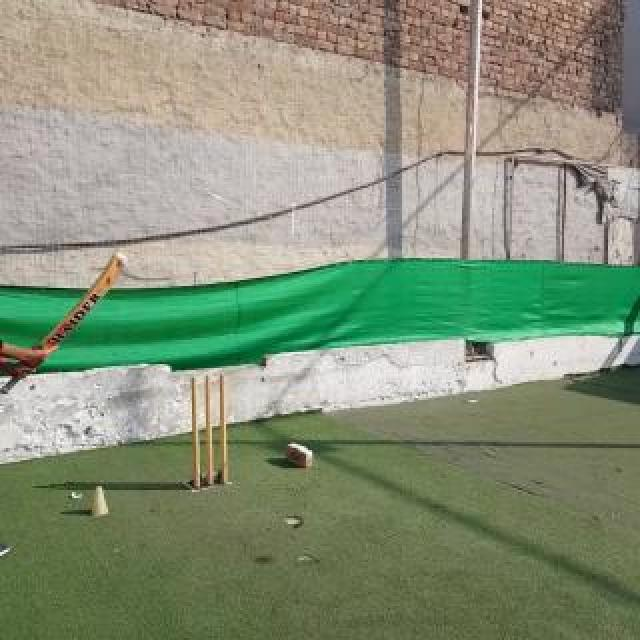bat: (0, 250, 128, 396)
